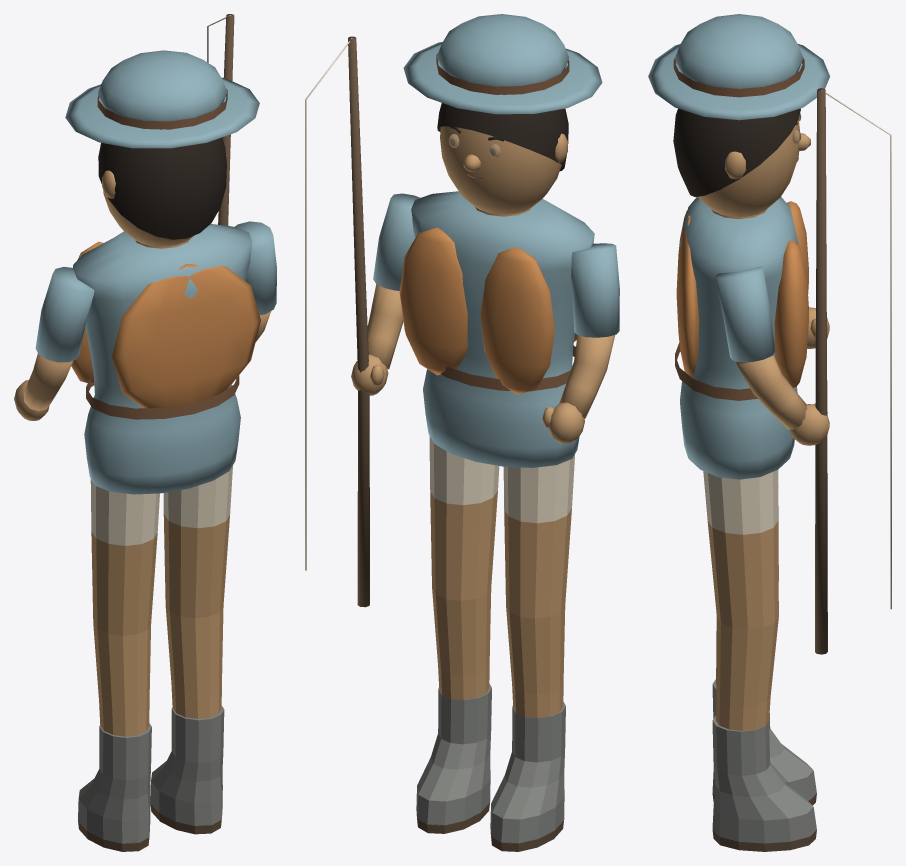
The model's file is SM_NPC_FIN.glb.
3 renders of one model, left to right at view 1: azimuth 30°, elevation 25°; view 2: azimuth 150°, elevation 25°; view 3: azimuth 270°, elevation 25°, orthographic. The views are drawn at different scales.
Parts seen in each view (by area): view 1: SM_NPC_FIN_BODY, SM_NPC_FIN_HAIR, SM_NPC_FIN_LEG_L, SM_NPC_FIN_LEG_R, SM_NPC_FIN_ARM_L, SM_NPC_FIN_ARM_R, SM_NPC_FIN_HEAD; view 2: SM_NPC_FIN_BODY, SM_NPC_FIN_LEG_L, SM_NPC_FIN_LEG_R, SM_NPC_FIN_HAIR, SM_NPC_FIN_ARM_R, SM_NPC_FIN_ARM_L, SM_NPC_FIN_HEAD; view 3: SM_NPC_FIN_BODY, SM_NPC_FIN_LEG_R, SM_NPC_FIN_HAIR, SM_NPC_FIN_ARM_R, SM_NPC_FIN_HEAD, SM_NPC_FIN_LEG_L.
Part boxes in pixels (left/top/right/bottom): SM_NPC_FIN_BODY: left=71, top=224, right=260, bottom=494; SM_NPC_FIN_HAIR: left=65, top=50, right=259, bottom=239; SM_NPC_FIN_LEG_L: left=78, top=479, right=159, bottom=851; SM_NPC_FIN_LEG_R: left=150, top=466, right=232, bottom=834; SM_NPC_FIN_ARM_L: left=14, top=267, right=94, bottom=420; SM_NPC_FIN_ARM_R: left=207, top=14, right=276, bottom=341; SM_NPC_FIN_HEAD: left=102, top=155, right=226, bottom=246; SM_NPC_FIN_BODY: left=399, top=191, right=594, bottom=467; SM_NPC_FIN_LEG_L: left=490, top=454, right=574, bottom=851; SM_NPC_FIN_LEG_R: left=416, top=436, right=499, bottom=833; SM_NPC_FIN_HAIR: left=403, top=14, right=602, bottom=171; SM_NPC_FIN_ARM_R: left=305, top=36, right=420, bottom=607; SM_NPC_FIN_ARM_L: left=542, top=243, right=619, bottom=443; SM_NPC_FIN_HEAD: left=440, top=126, right=567, bottom=214; SM_NPC_FIN_BODY: left=675, top=197, right=808, bottom=479; SM_NPC_FIN_LEG_R: left=703, top=470, right=816, bottom=851; SM_NPC_FIN_HAIR: left=648, top=14, right=829, bottom=196; SM_NPC_FIN_ARM_R: left=715, top=88, right=891, bottom=654; SM_NPC_FIN_HEAD: left=698, top=119, right=810, bottom=217; SM_NPC_FIN_LEG_L: left=712, top=470, right=816, bottom=805.
Bounding box in the file's own units: 0.6058 × 1.89 × 0.5232.
